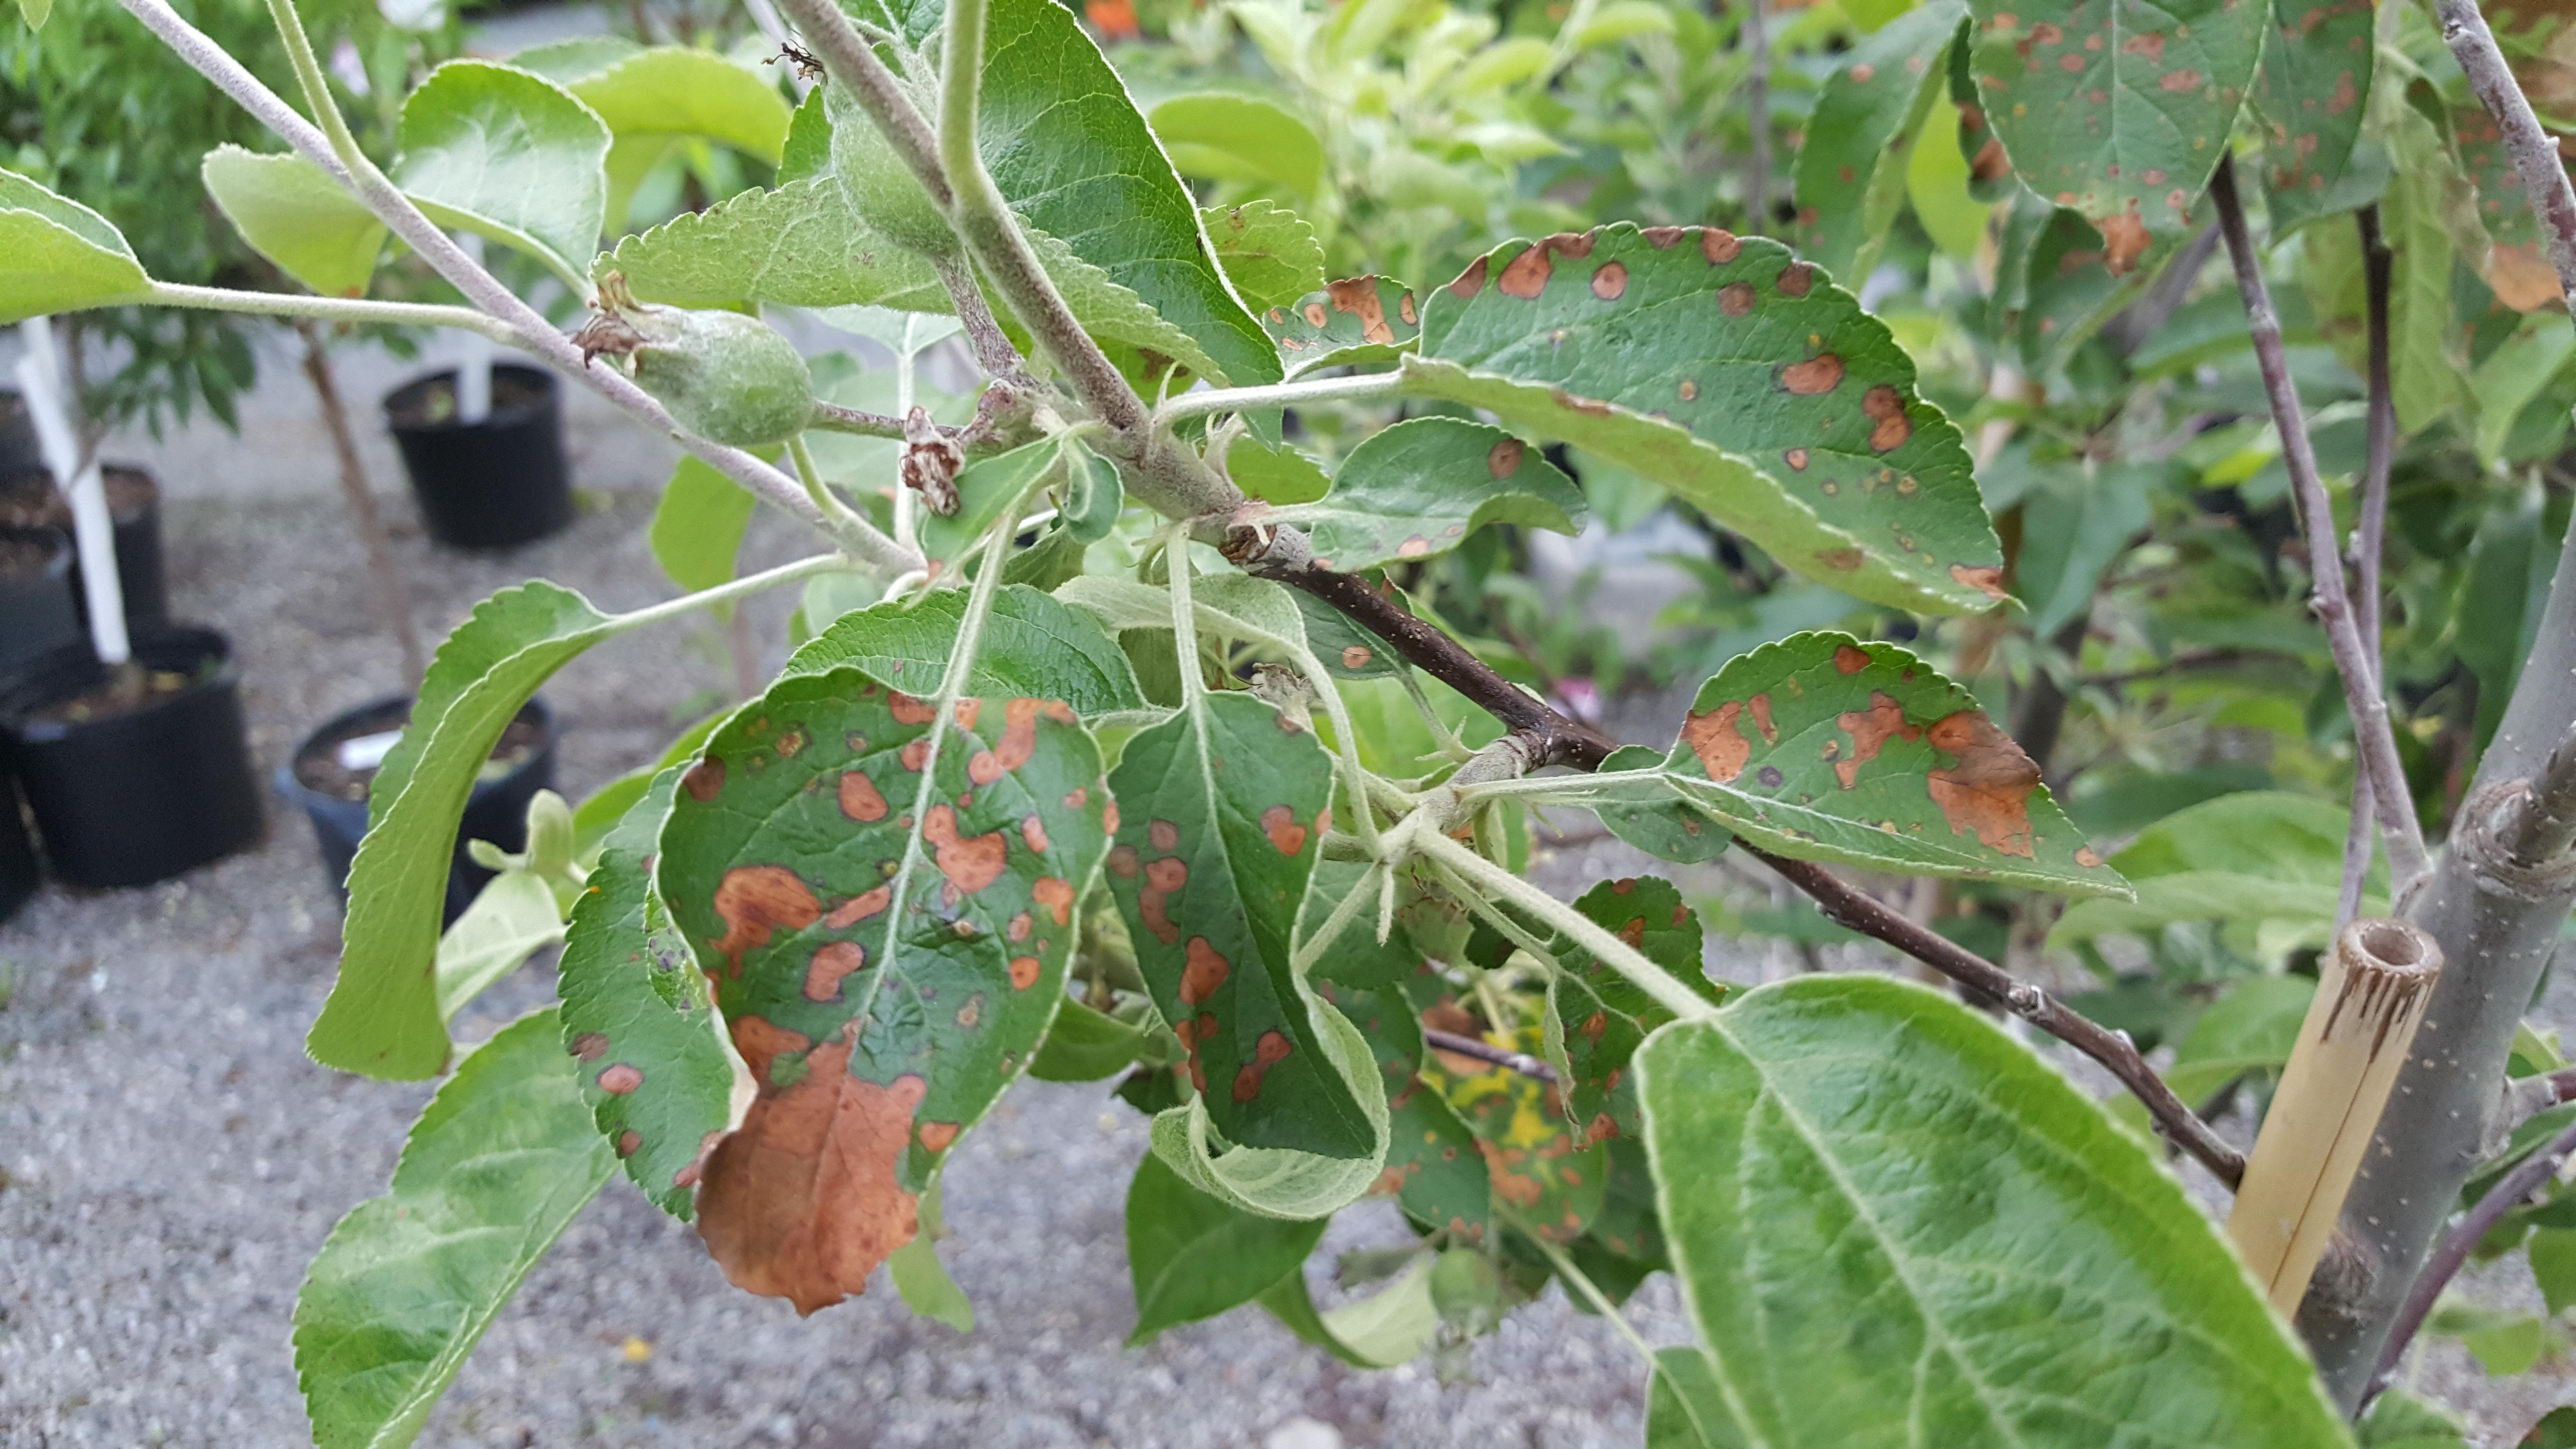Apple rust leaf: (619, 653, 1141, 1353), (1375, 209, 2107, 651), (1111, 686, 1447, 1192), (1670, 633, 2150, 924), (1944, 4, 2302, 295)
